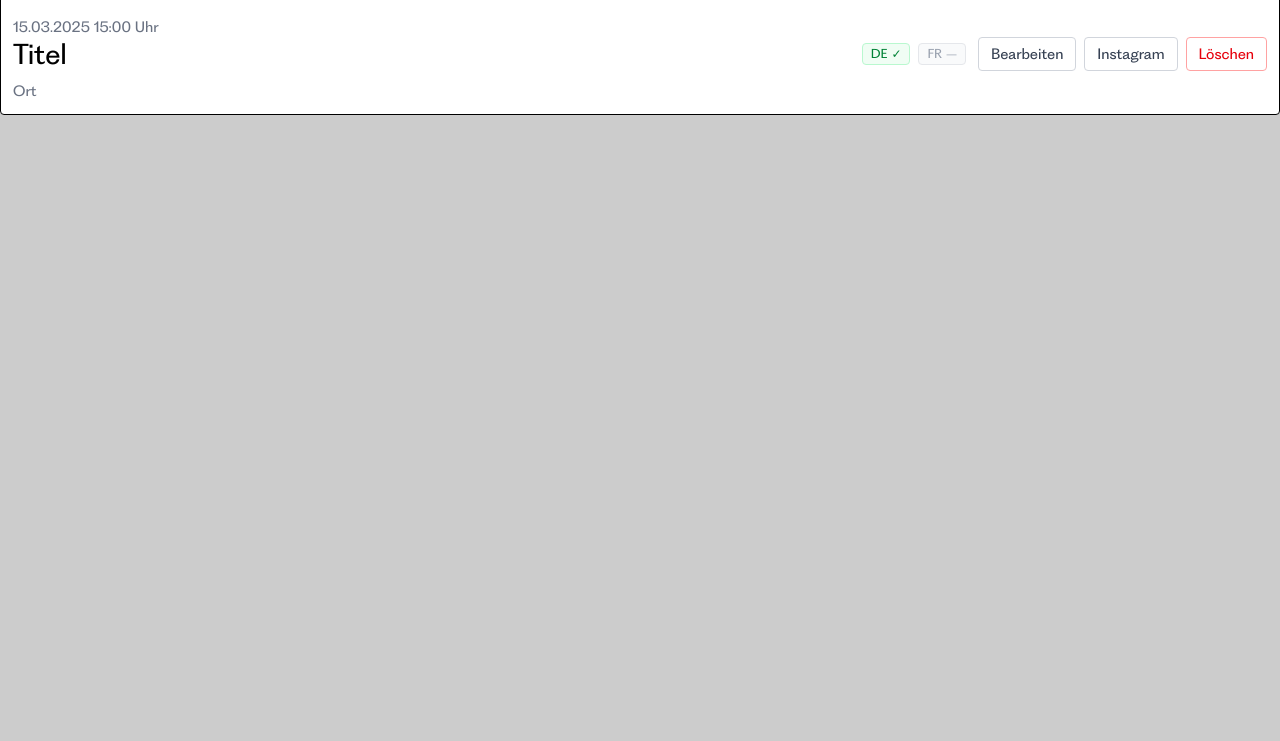
Test: AgendaSection — Sprint 1 Mode-Picker + Slot-Grid + Drag-Reorder › openEdit with images=null does not crash (null-Guard)
Click the button "Bearbeiten".
click(1027, 54)  # box [978,37,1076,71]
(page scrolled)
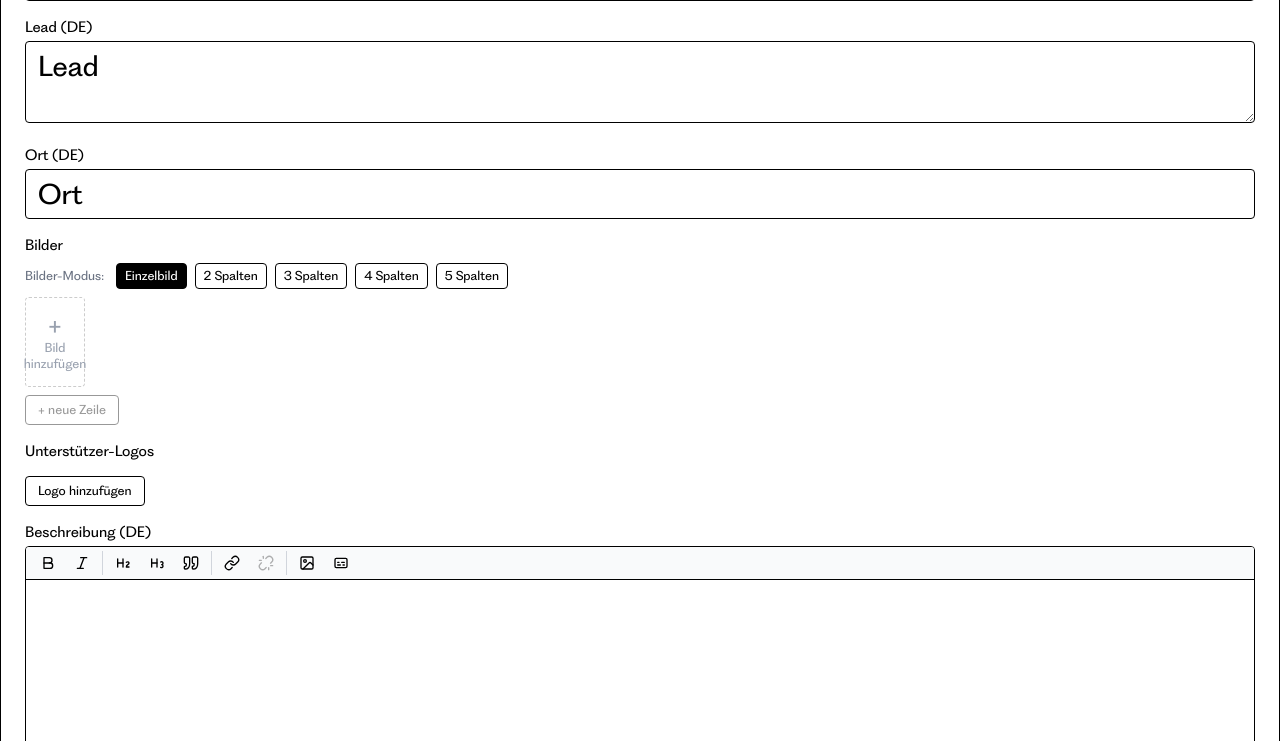
Expected: the element with test id "slot-empty-0" is shown, [25,297,85,387]
